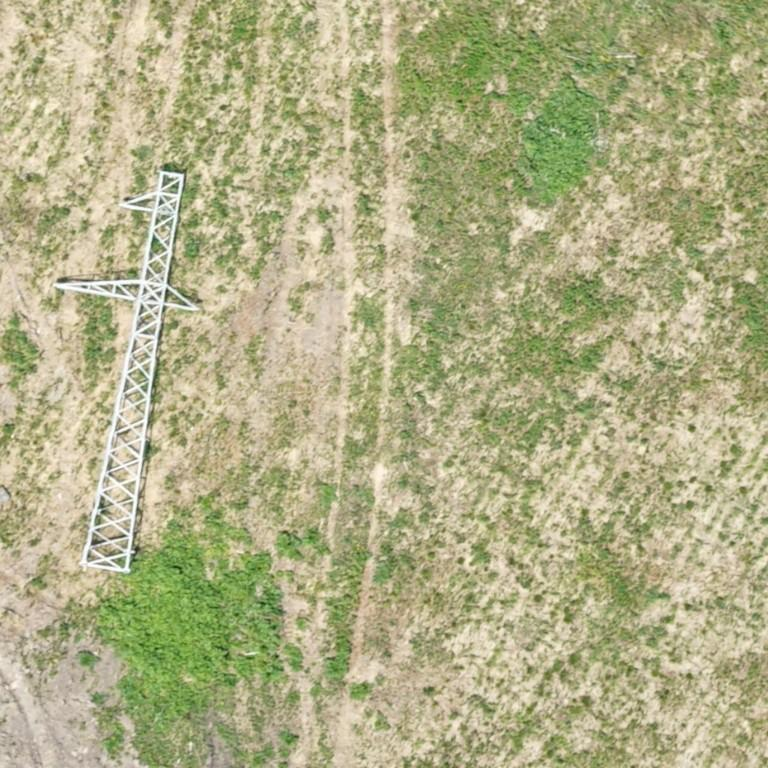hogweed: (98, 521, 285, 714), (521, 77, 607, 203), (325, 638, 350, 677), (276, 532, 298, 554)
